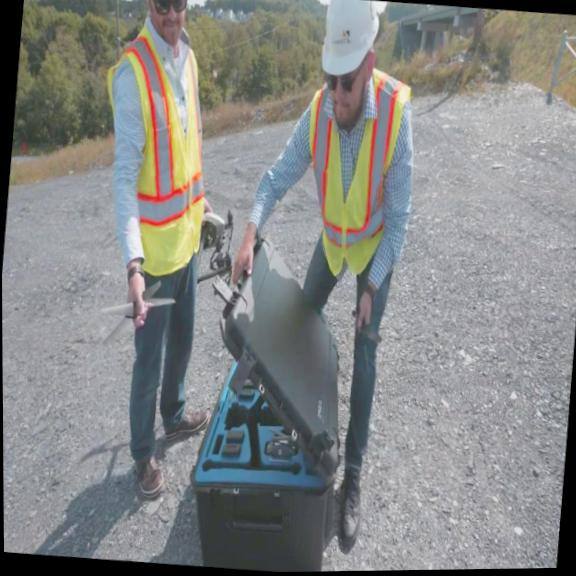safety_vest: (90, 10, 223, 283), (296, 59, 415, 282)
